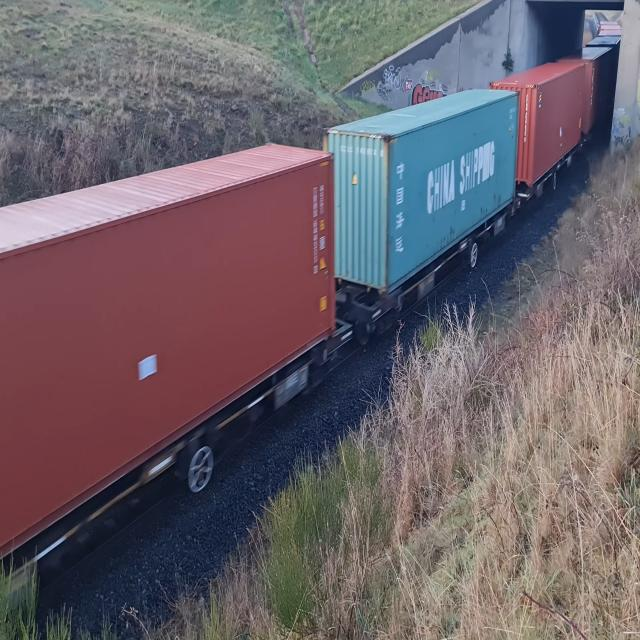container: (0, 131, 335, 609), (329, 82, 522, 315), (488, 57, 599, 207)
